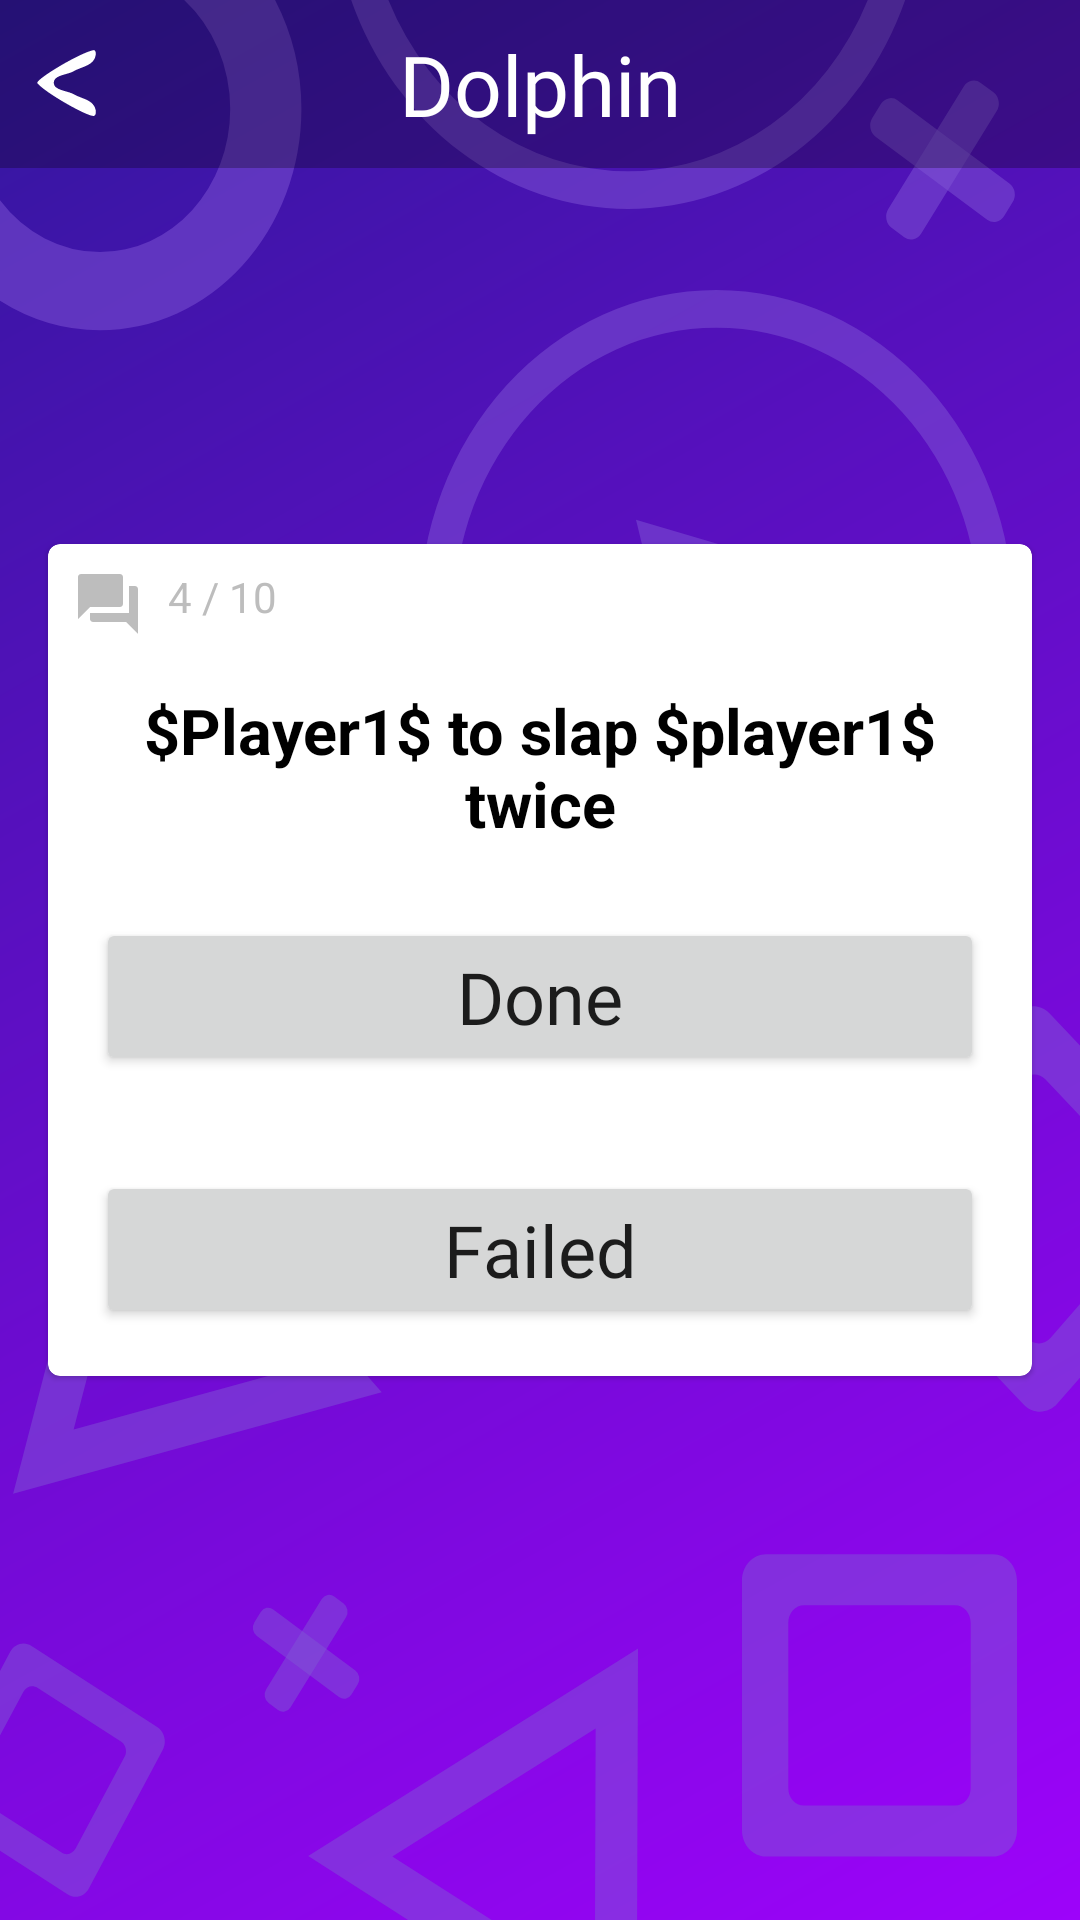

Icon bounding boxes for this 1080w x 1920h phone screenshot, format rect(x1, y1, x2, y2):
back: rect(37, 50, 96, 116)
